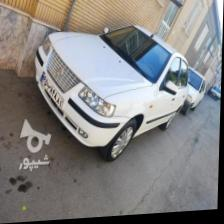plate: (38, 71, 65, 113)
